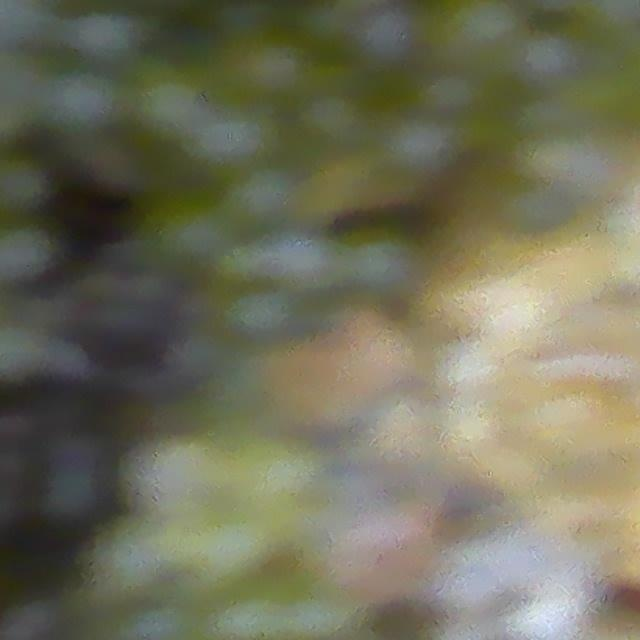SeaGrape: (427, 0, 531, 83), (196, 99, 281, 169), (380, 111, 460, 185), (150, 196, 231, 268), (133, 67, 209, 141), (224, 163, 299, 235), (43, 66, 120, 136), (514, 25, 581, 90), (71, 8, 140, 67), (0, 221, 55, 289), (0, 151, 50, 222), (120, 599, 189, 640)
